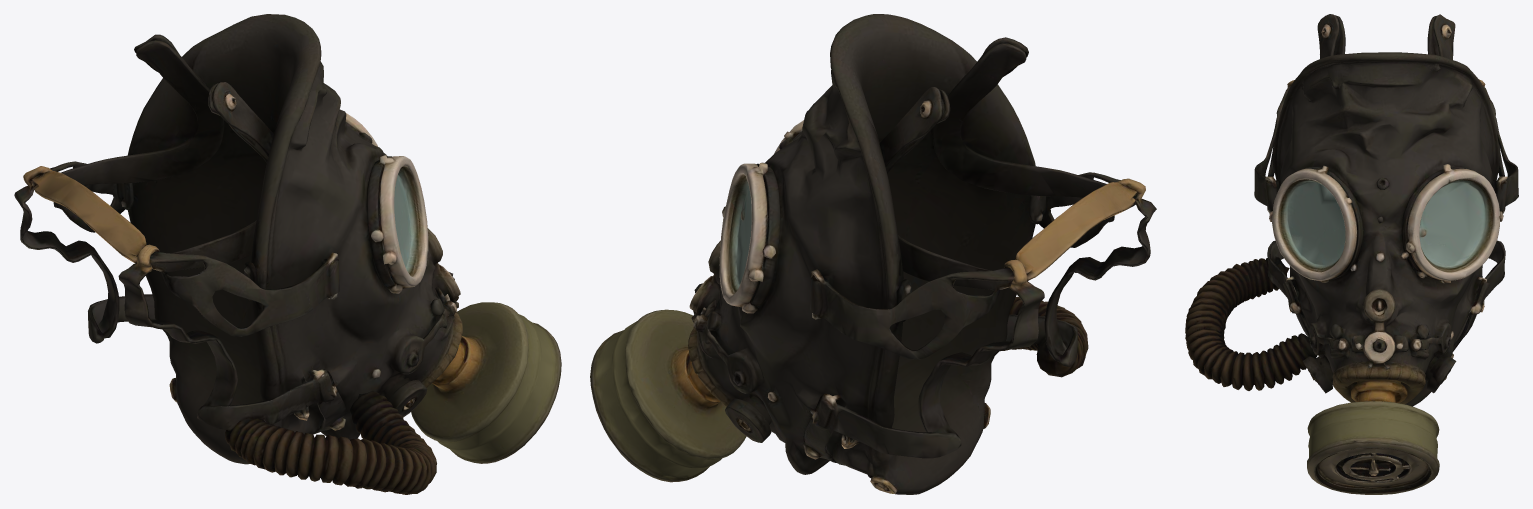
The model's file is gas-mask.glb.
3 renders of one model, left to right at view 1: azimuth 30°, elevation 25°; view 2: azimuth 150°, elevation 25°; view 3: azimuth 270°, elevation 25°, orthographic. The views are drawn at different scales.
Visible parts, largest first — view 1: tripo_node_1029dd47-e3bc-4fc1-af74-b3915946bdcc; view 2: tripo_node_1029dd47-e3bc-4fc1-af74-b3915946bdcc; view 3: tripo_node_1029dd47-e3bc-4fc1-af74-b3915946bdcc.
Boxes of the visible parts, bbox=[...] form: tripo_node_1029dd47-e3bc-4fc1-af74-b3915946bdcc: bbox=[14, 14, 561, 494]; tripo_node_1029dd47-e3bc-4fc1-af74-b3915946bdcc: bbox=[590, 14, 1156, 494]; tripo_node_1029dd47-e3bc-4fc1-af74-b3915946bdcc: bbox=[1185, 14, 1518, 494].
Size of the model in its own units: 1 by 0.9471 by 0.7522.
1 material, 1 textured.
